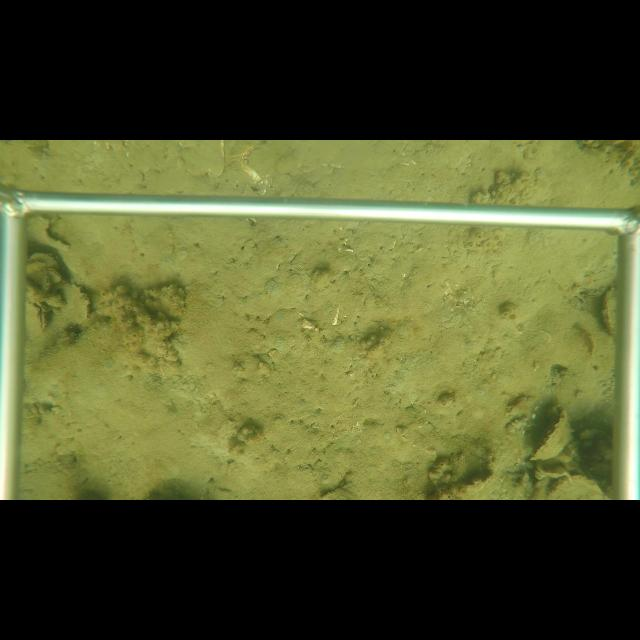Oyster-Closed: (525, 404, 575, 463), (545, 473, 613, 499), (59, 281, 93, 320), (598, 285, 616, 338), (30, 251, 60, 266), (47, 267, 65, 282)
Oyster-Open: (29, 301, 50, 337)
